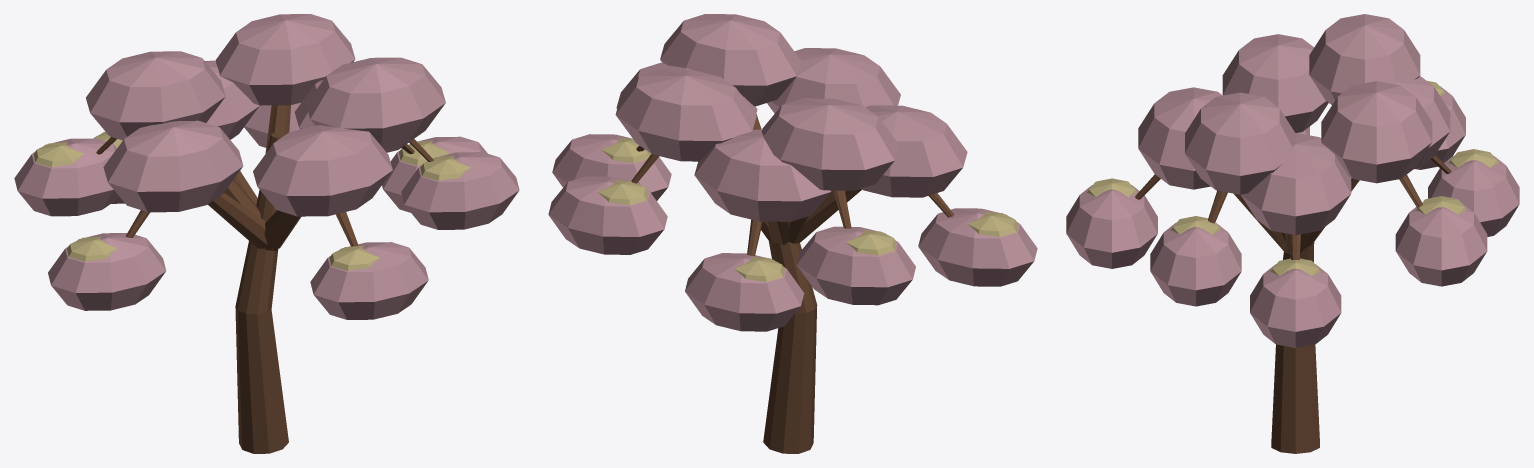
Rendered from Plant_Feature_Rural_FloweringCherry_001.glb.
3 renders of one model, left to right at view 1: azimuth 30°, elevation 25°; view 2: azimuth 150°, elevation 25°; view 3: azimuth 270°, elevation 25°, orthographic.
Parts seen in each view (by area): view 1: Plant_Feature_Rural_FloweringCherry_001; view 2: Plant_Feature_Rural_FloweringCherry_001; view 3: Plant_Feature_Rural_FloweringCherry_001.
Boxes of the visible parts, x1,y1,x2,y2 form: Plant_Feature_Rural_FloweringCherry_001: (14, 14, 519, 453); Plant_Feature_Rural_FloweringCherry_001: (548, 14, 1037, 453); Plant_Feature_Rural_FloweringCherry_001: (1066, 14, 1519, 453).
Bounding box in the file's own units: 5.25 × 4.15 × 4.43.
